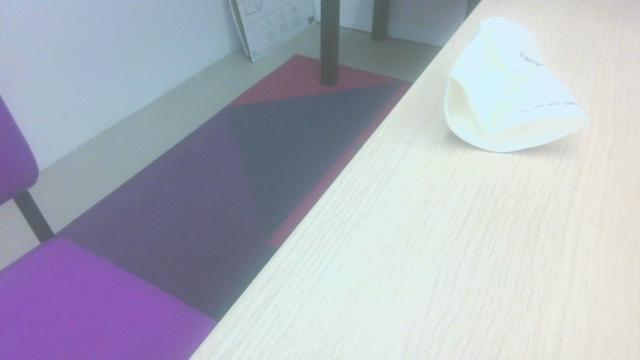cup: (436, 8, 592, 159)
